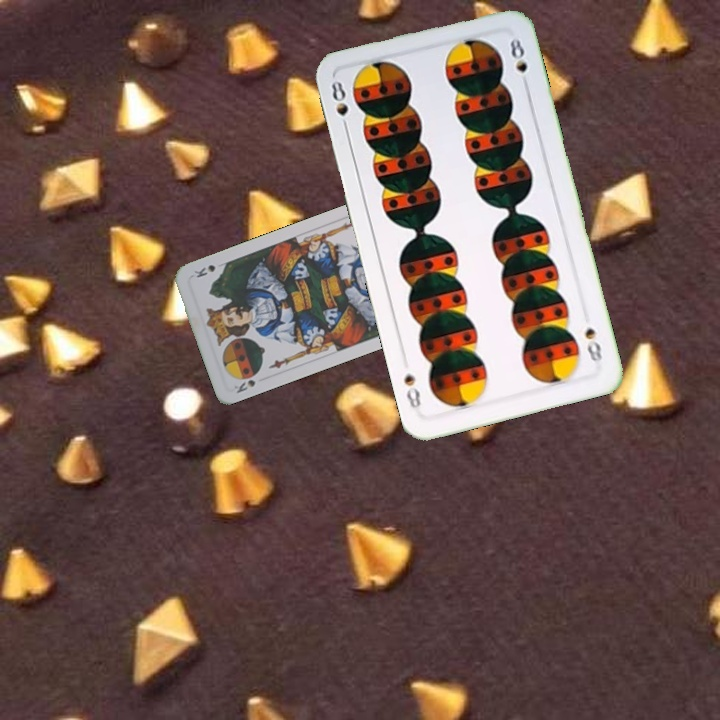S8: (327, 76, 352, 135), (581, 323, 606, 369)
SK: (230, 368, 263, 396)
